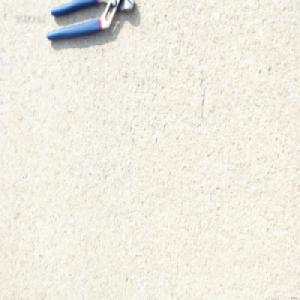Pliers: (45, 0, 134, 44)
